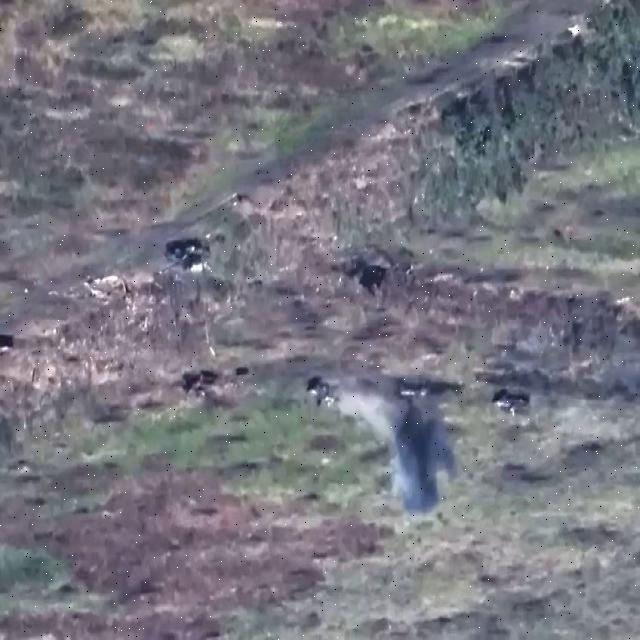AIFV: (308, 382, 344, 410), (493, 392, 533, 417), (399, 378, 433, 404)
Destroyed: (185, 373, 217, 398)
MBT: (157, 241, 211, 278)
